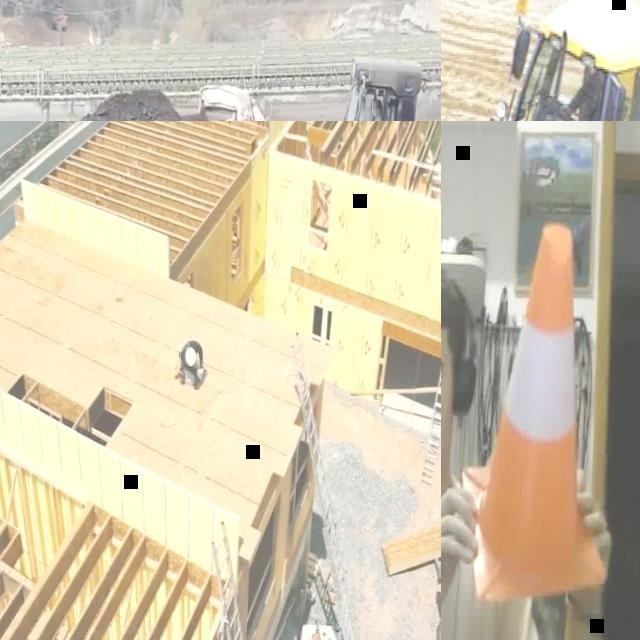Hardhat: (185, 347, 197, 368)
NO-Hardhat: (441, 252, 471, 340), (375, 99, 383, 109)
NO-Mask: (372, 110, 378, 118)
NO-Safety Vest: (441, 479, 500, 640), (181, 340, 195, 365)
Person: (441, 208, 626, 640), (561, 72, 611, 121), (178, 340, 205, 388), (359, 97, 384, 121)
Safety Cone: (456, 220, 627, 606)
machinery: (1, 39, 441, 121), (441, 0, 640, 121), (46, 67, 276, 121)
